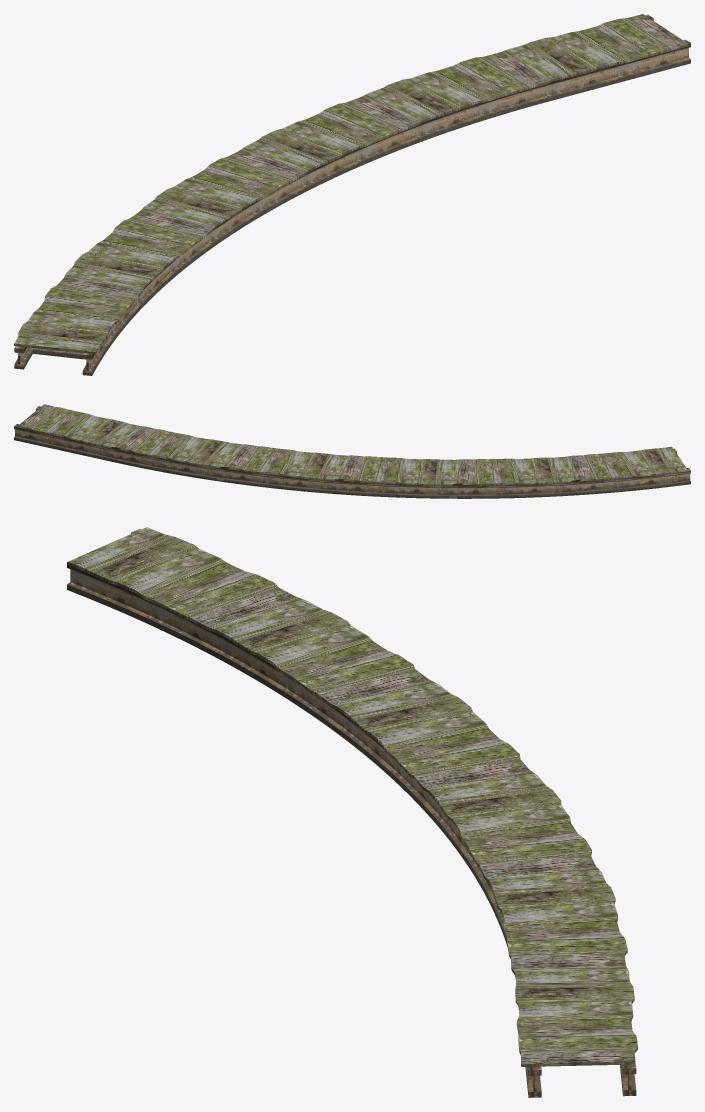
3 views of the same model, one above another, from view 1: azimuth 30°, elevation 25°; view 2: azimuth 150°, elevation 25°; view 3: azimuth 270°, elevation 25° (orthographic). The views are drawn at different scales.
Parts seen in each view (by area): view 1: ramp.010; view 2: ramp.010; view 3: ramp.010.
Part boxes in pixels (<box>): ramp.010: <box>14,14,690,375</box>; ramp.010: <box>14,404,690,498</box>; ramp.010: <box>67,527,637,1097</box>.
Bounding box in the file's own units: 441 × 11.65 × 197.
